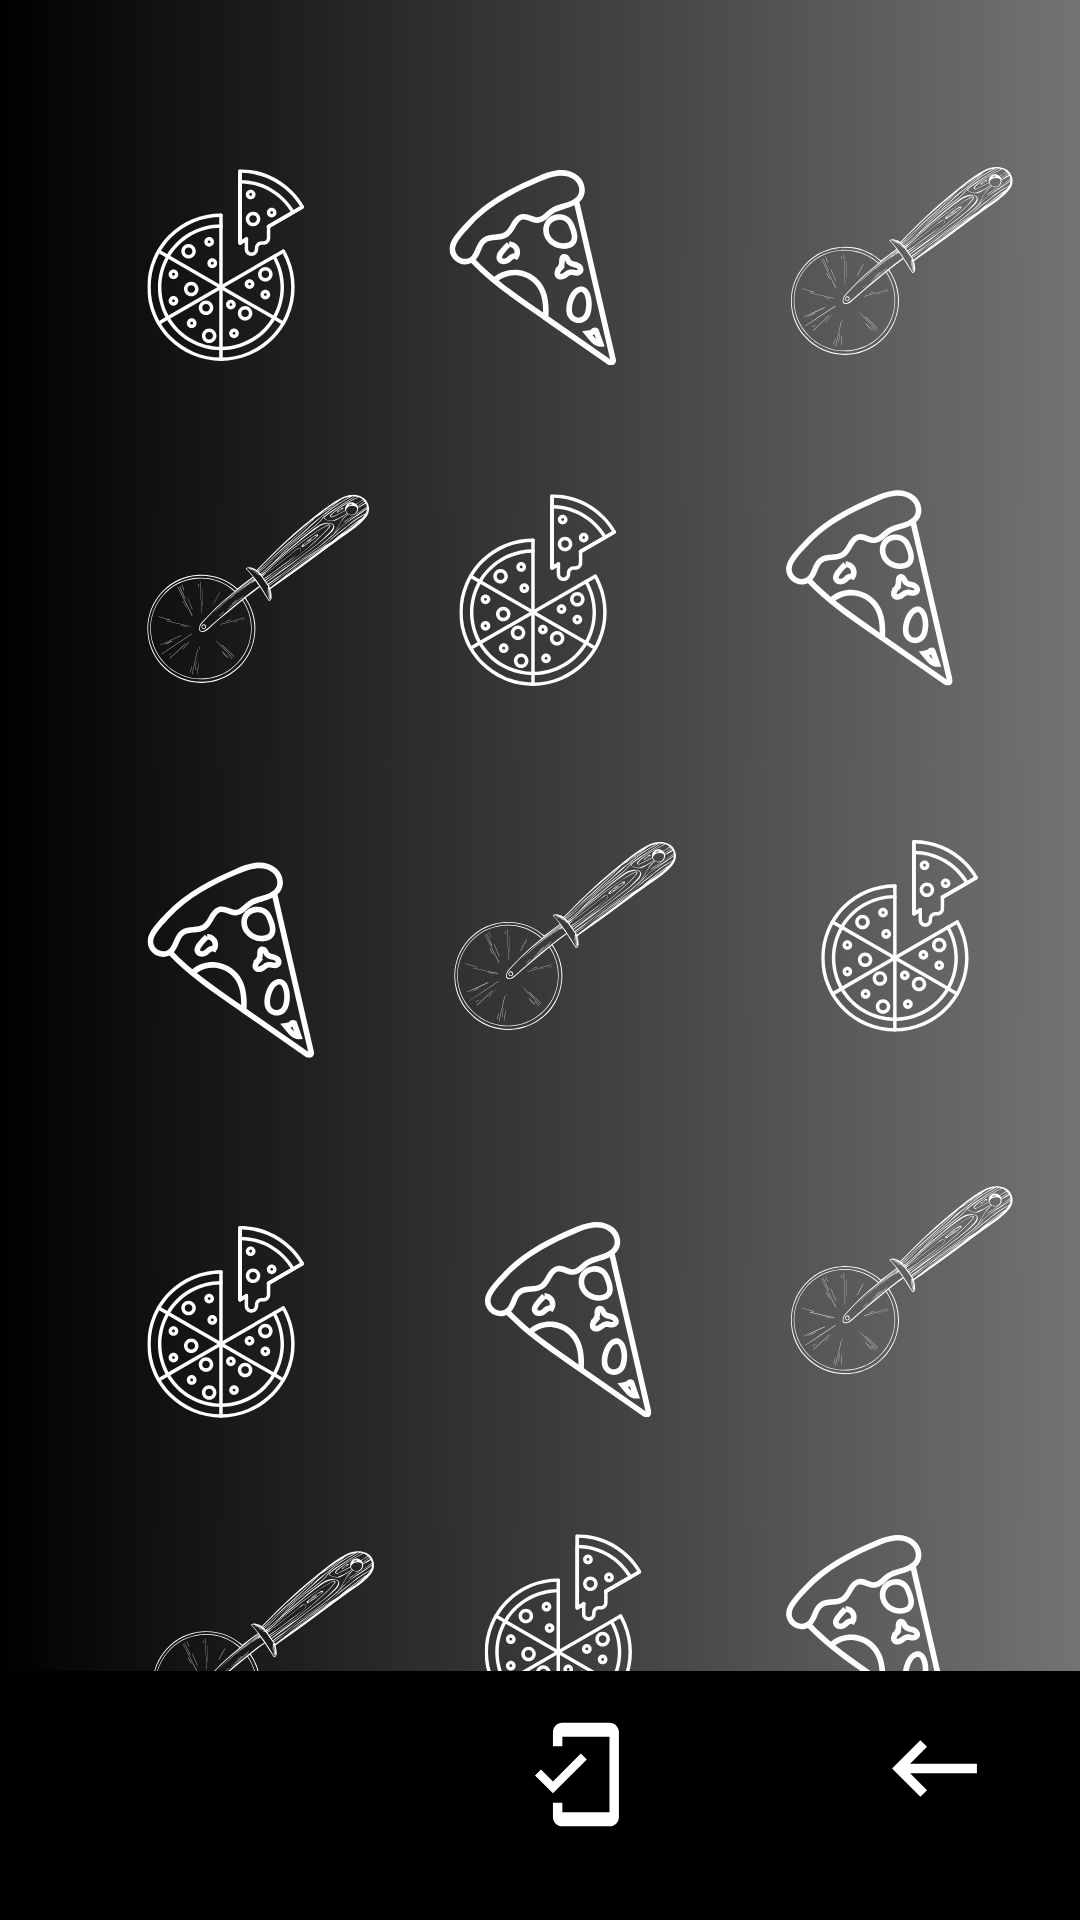

Icons on this 1080 x 1920 Android screen, each with the point to tap as (x,y):
pedido: (577,1774)
